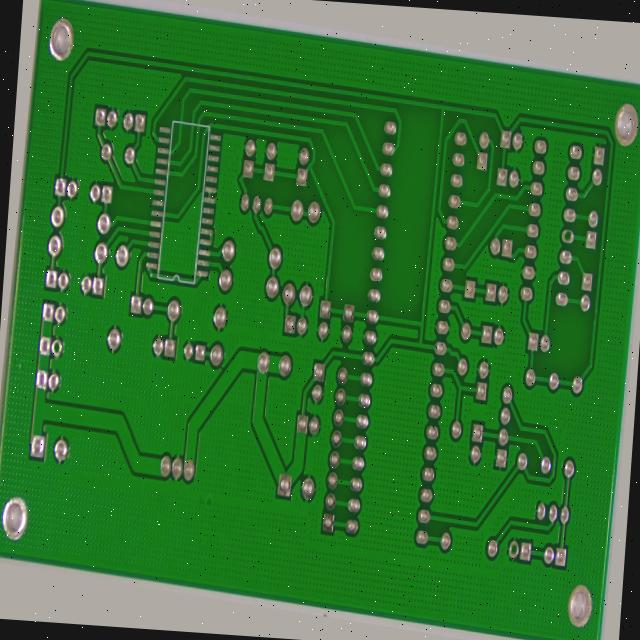missing_hole: (516, 532, 532, 565), (564, 188, 578, 214), (42, 367, 54, 390)
